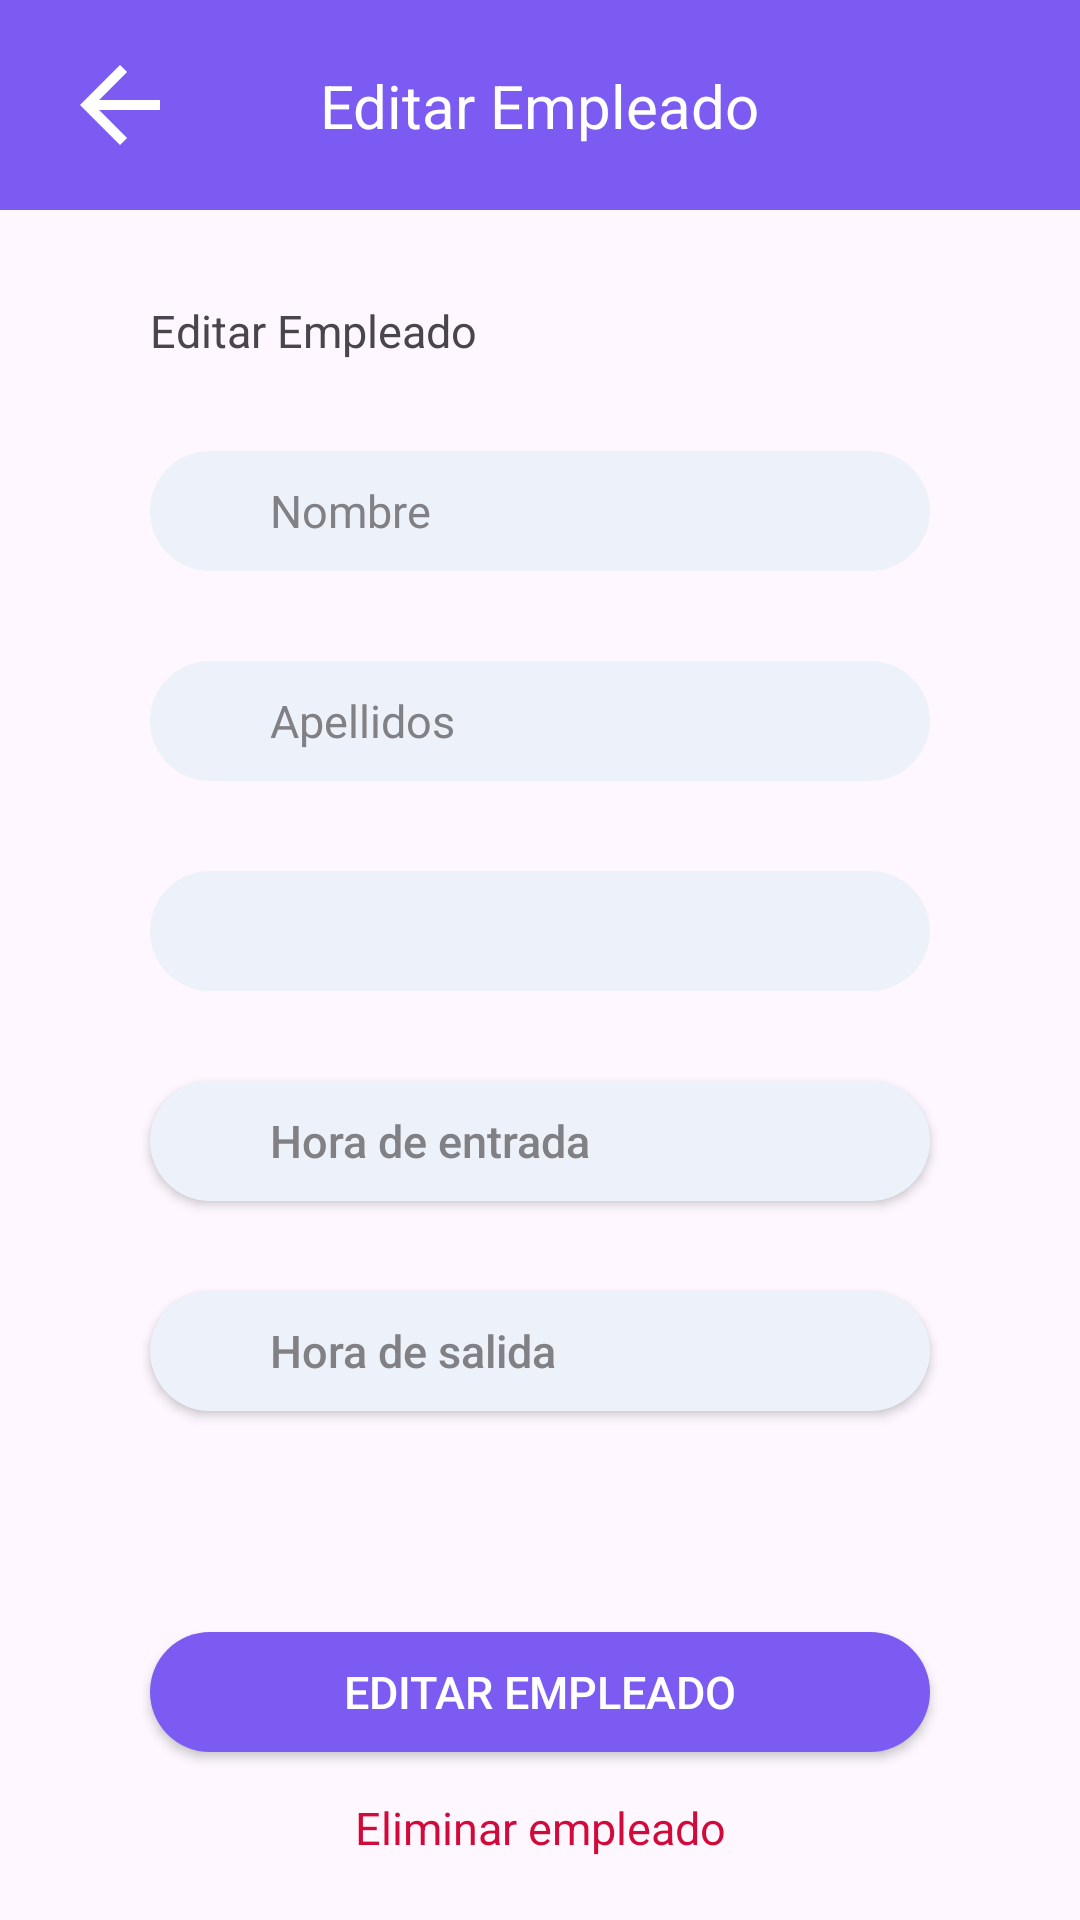

Where icons sit on this 1080w x 1920h app screen, as (x1, y1, x2, y2):
back arrow: (80, 65, 160, 145)
